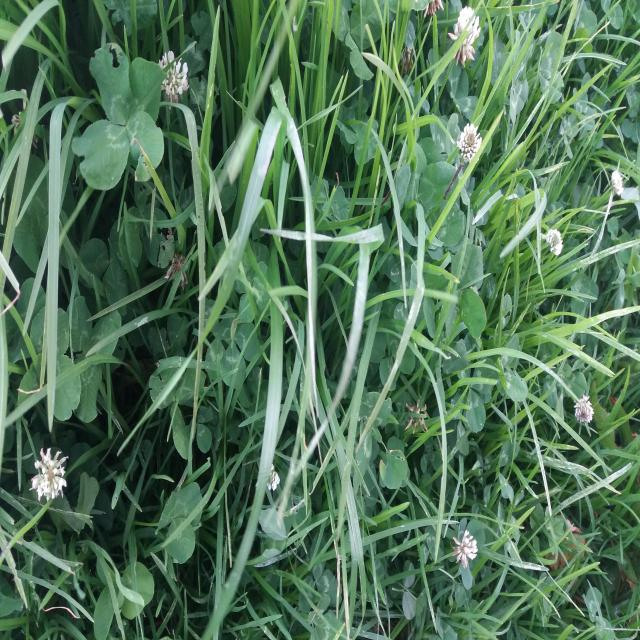Four Leaf Clover: (71, 41, 167, 191)
